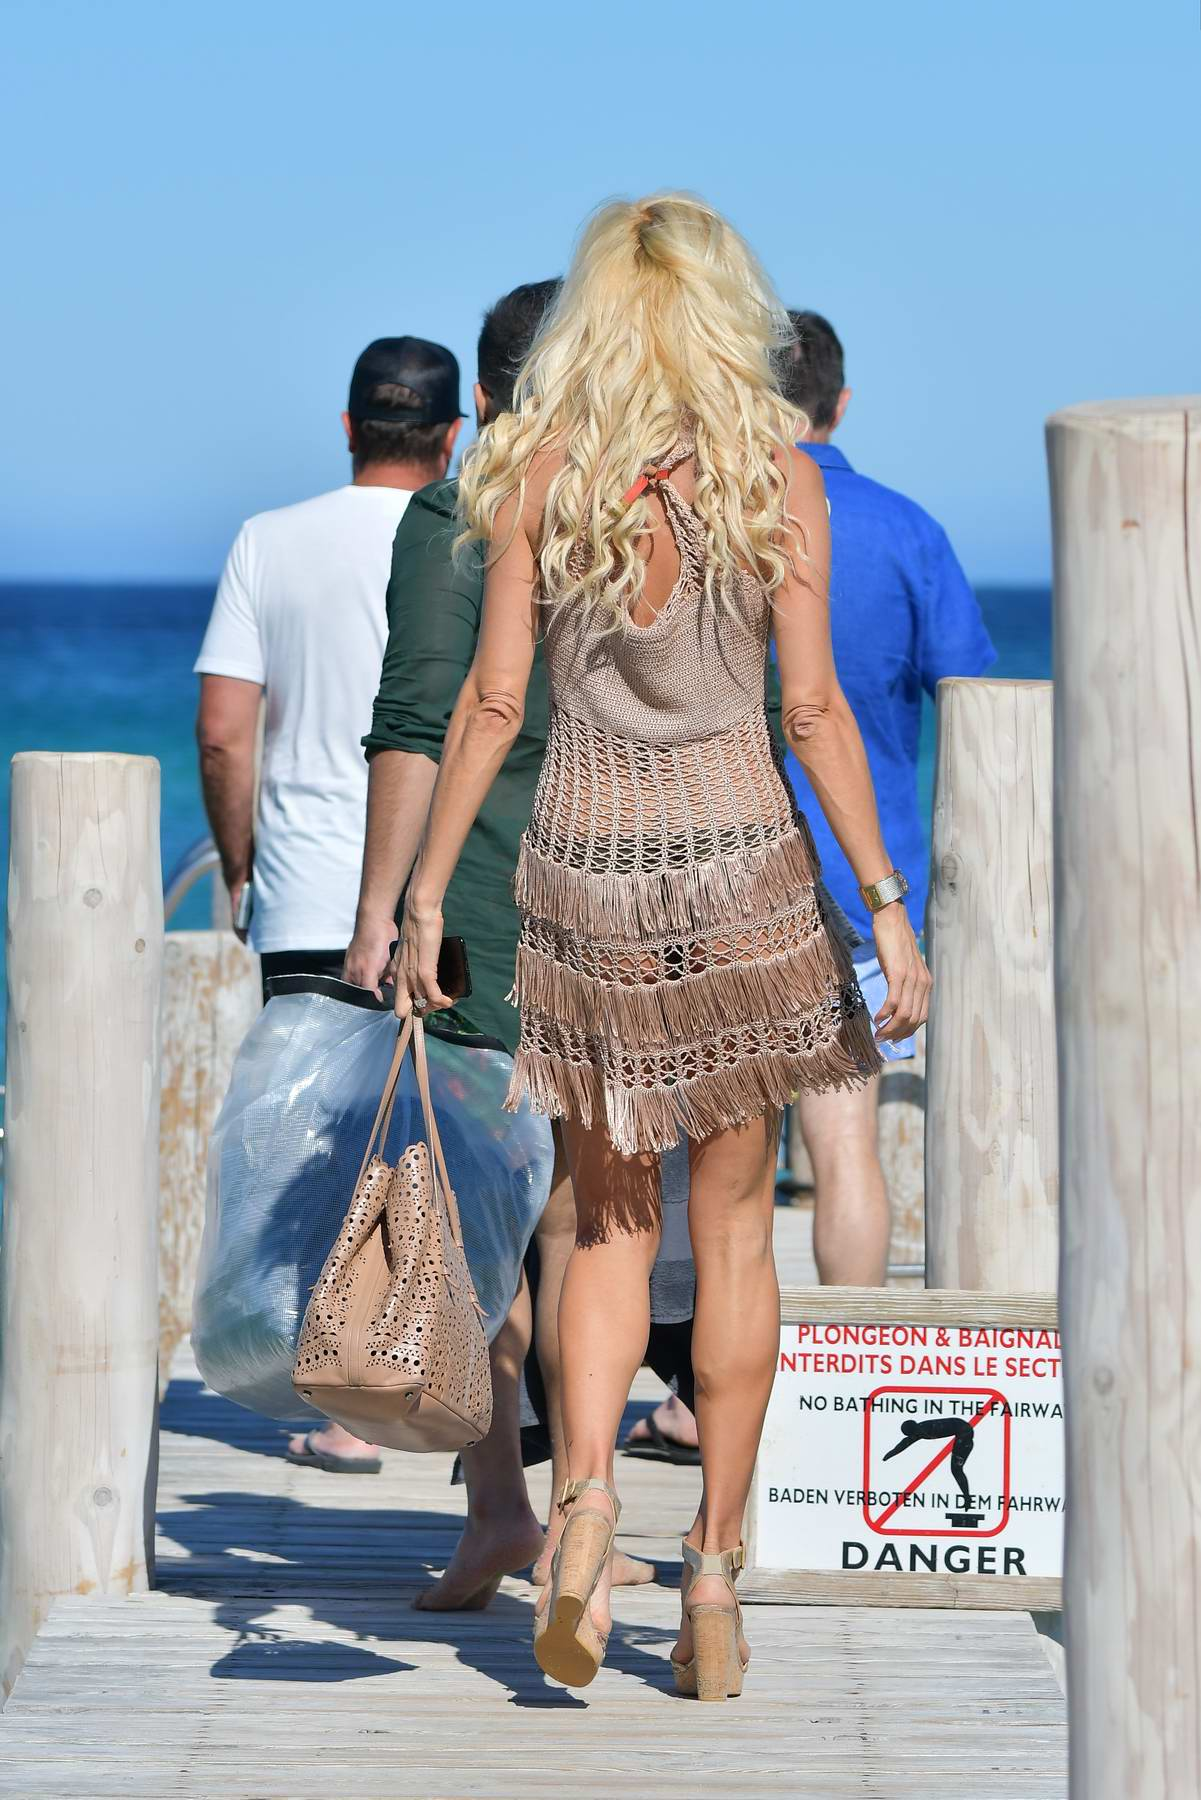Person: (378, 185, 942, 1714), (757, 288, 1007, 1158), (201, 317, 492, 1029), (345, 279, 604, 1064)
